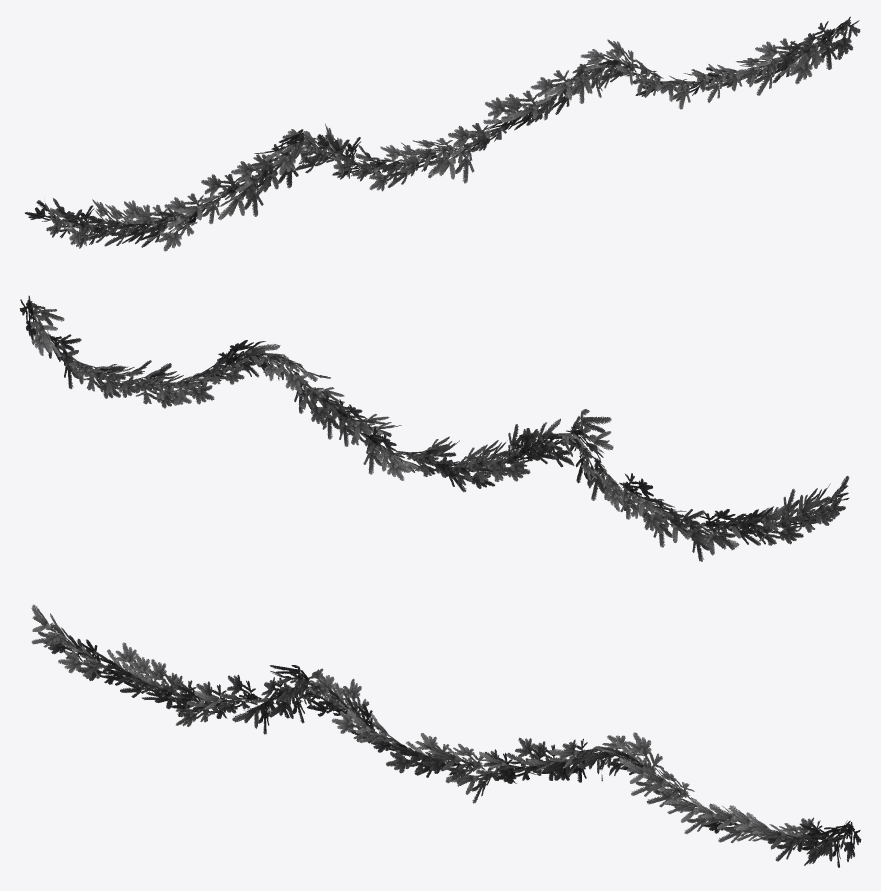
File: xmas_garland.fbx
3 renders of one model, top to bottom at view 1: azimuth 30°, elevation 25°; view 2: azimuth 150°, elevation 25°; view 3: azimuth 330°, elevation 25°, orthographic.
Visible parts, largest first — view 1: Object004; view 2: Object004; view 3: Object004.
Boxes of the visible parts, <box> form: Object004: <box>25,16,860,251</box>; Object004: <box>19,295,849,561</box>; Object004: <box>31,604,861,867</box>.
Bounding box in the file's own units: 531 × 70.67 × 42.59.
